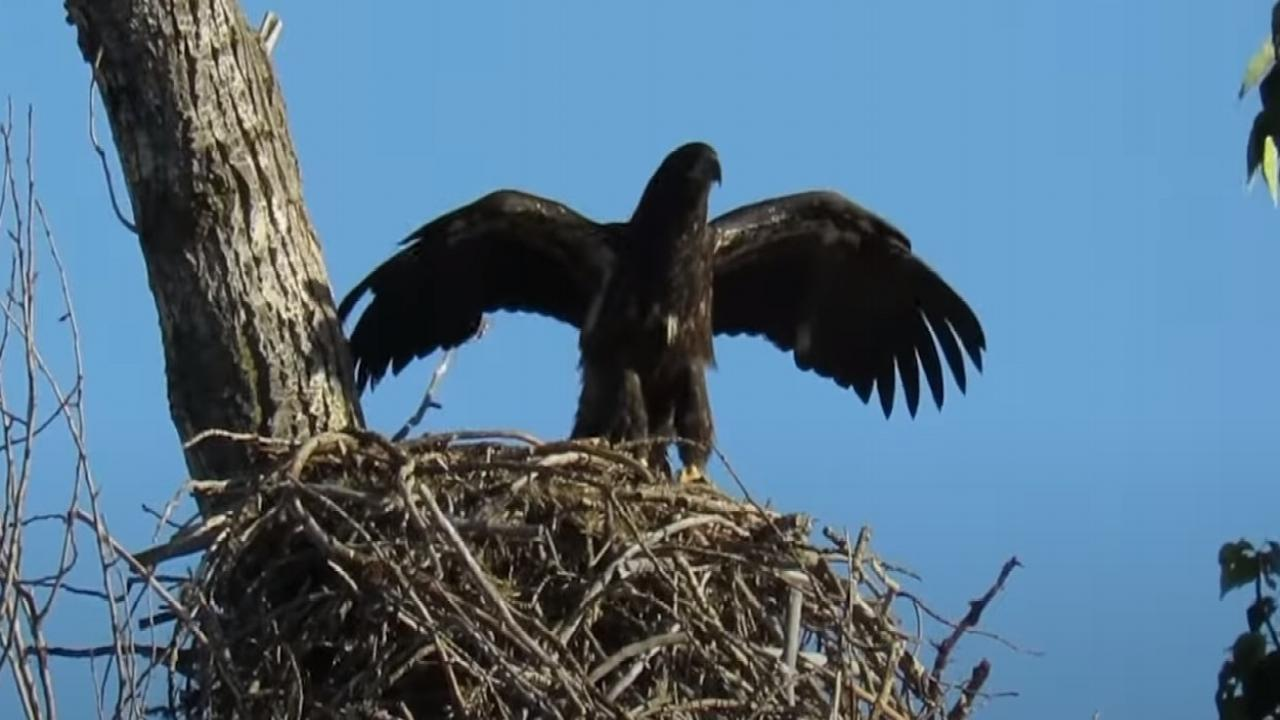Bird: (322, 130, 998, 478)
